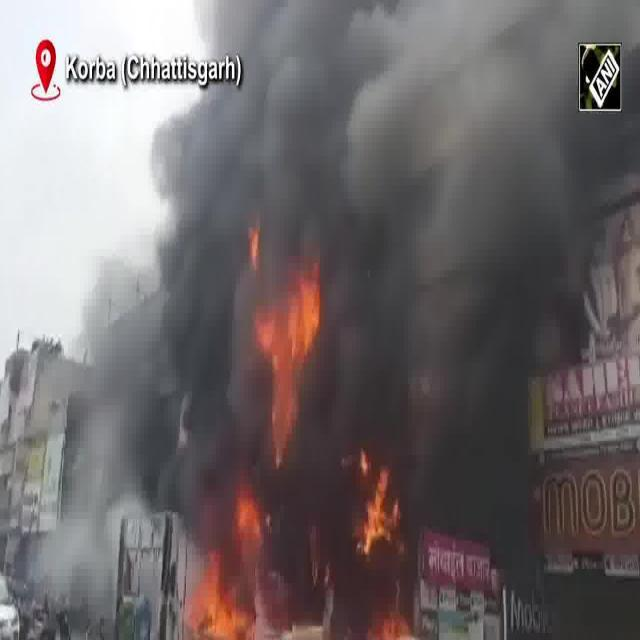Fire: (270, 302, 296, 433), (193, 588, 242, 638), (367, 482, 397, 538)
Smoke: (228, 5, 582, 256), (335, 287, 521, 451), (164, 256, 234, 516)
